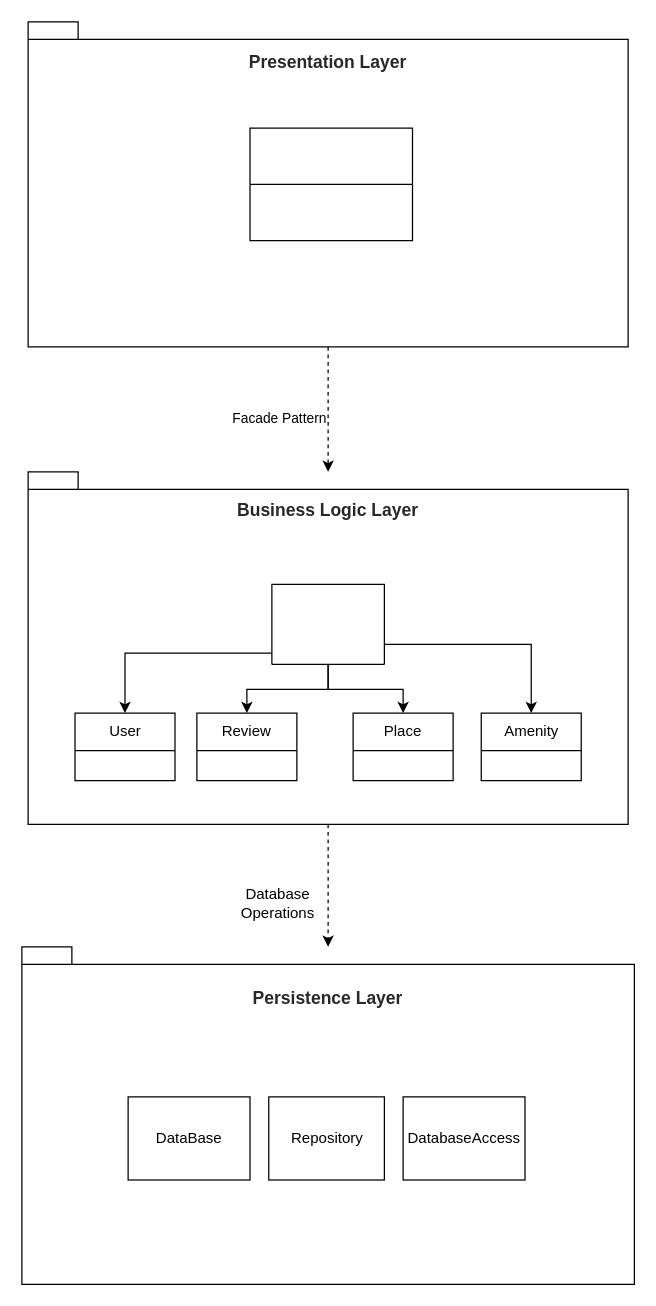
Image size: 656x1306. Some labels were removed from this diagram. The shapes that lost their labels are listed below. From the top down, each one's centre as x and y in pixels, then its label:
At (330,184): "Services API".
At (327,623): "Model".
